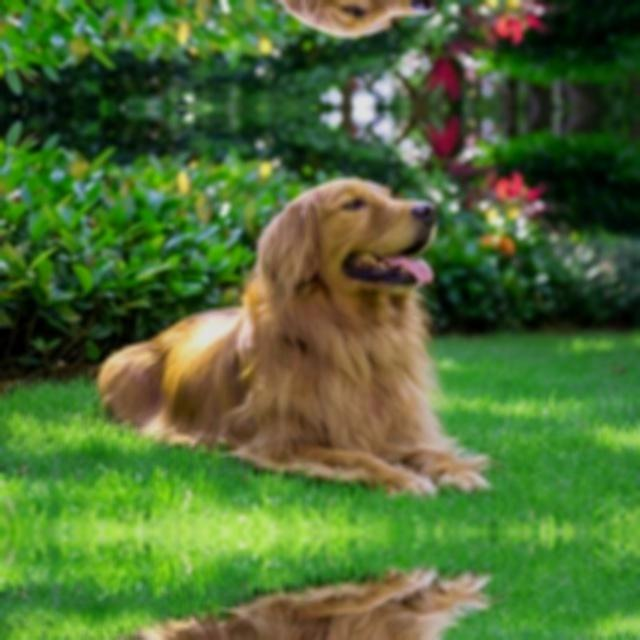dog: (108, 166, 452, 506), (108, 556, 452, 640), (108, 0, 452, 48)
